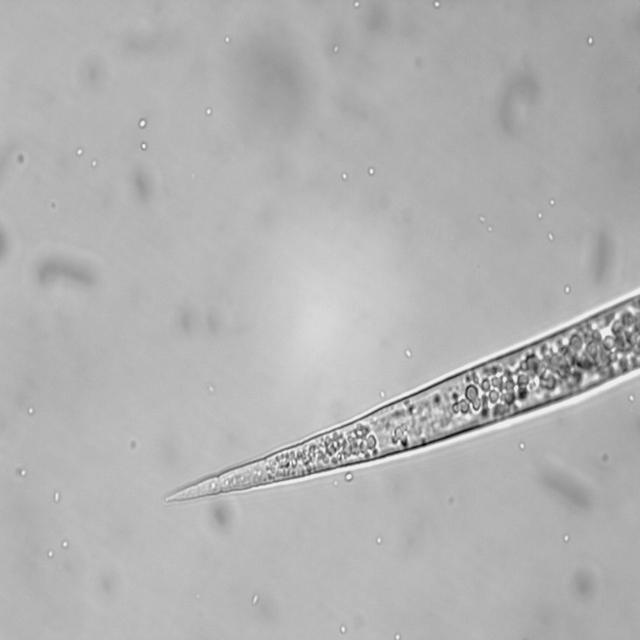Meloidogyne: (153, 286, 640, 512)
